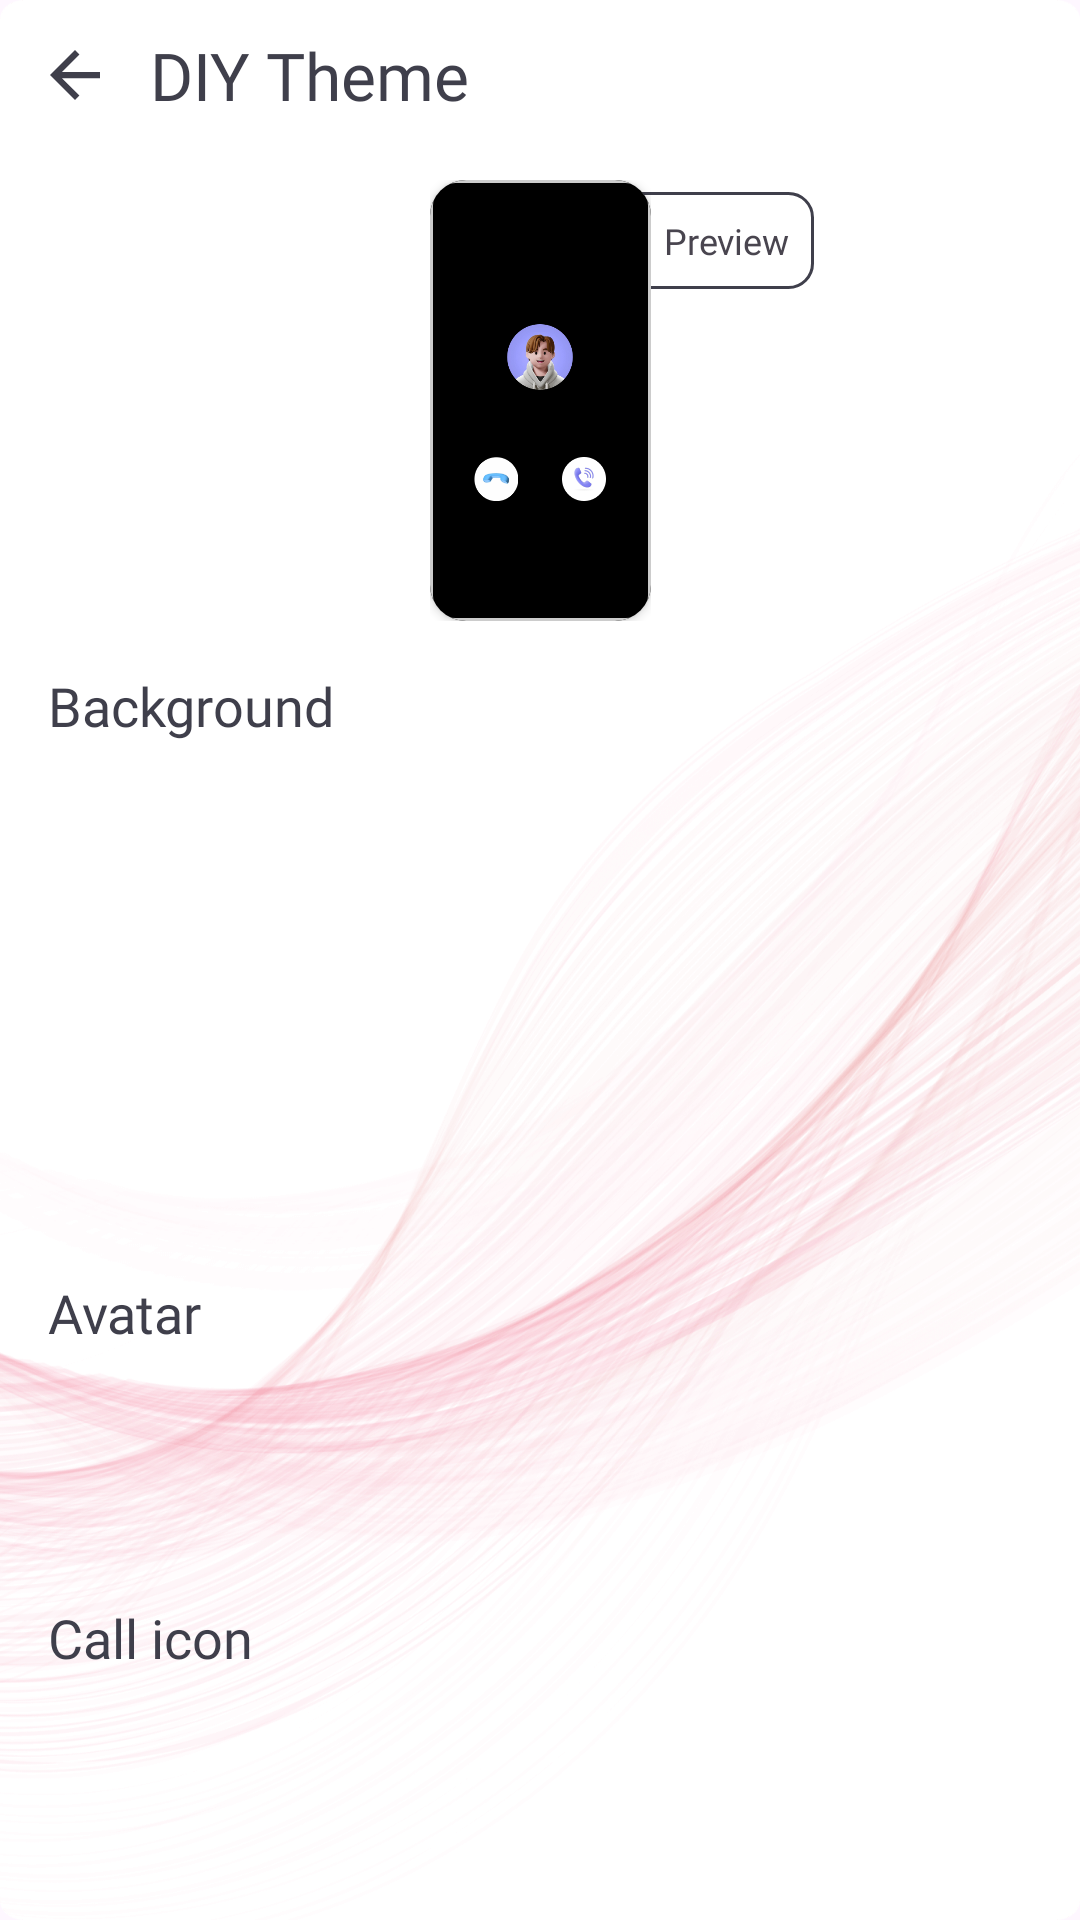

Point at icon controls on the screen. Image size 1080w x 1920h, points as point (x, y).
avater: point (540, 357)
back: point (75, 75)
call: point (496, 479), point (584, 479)
